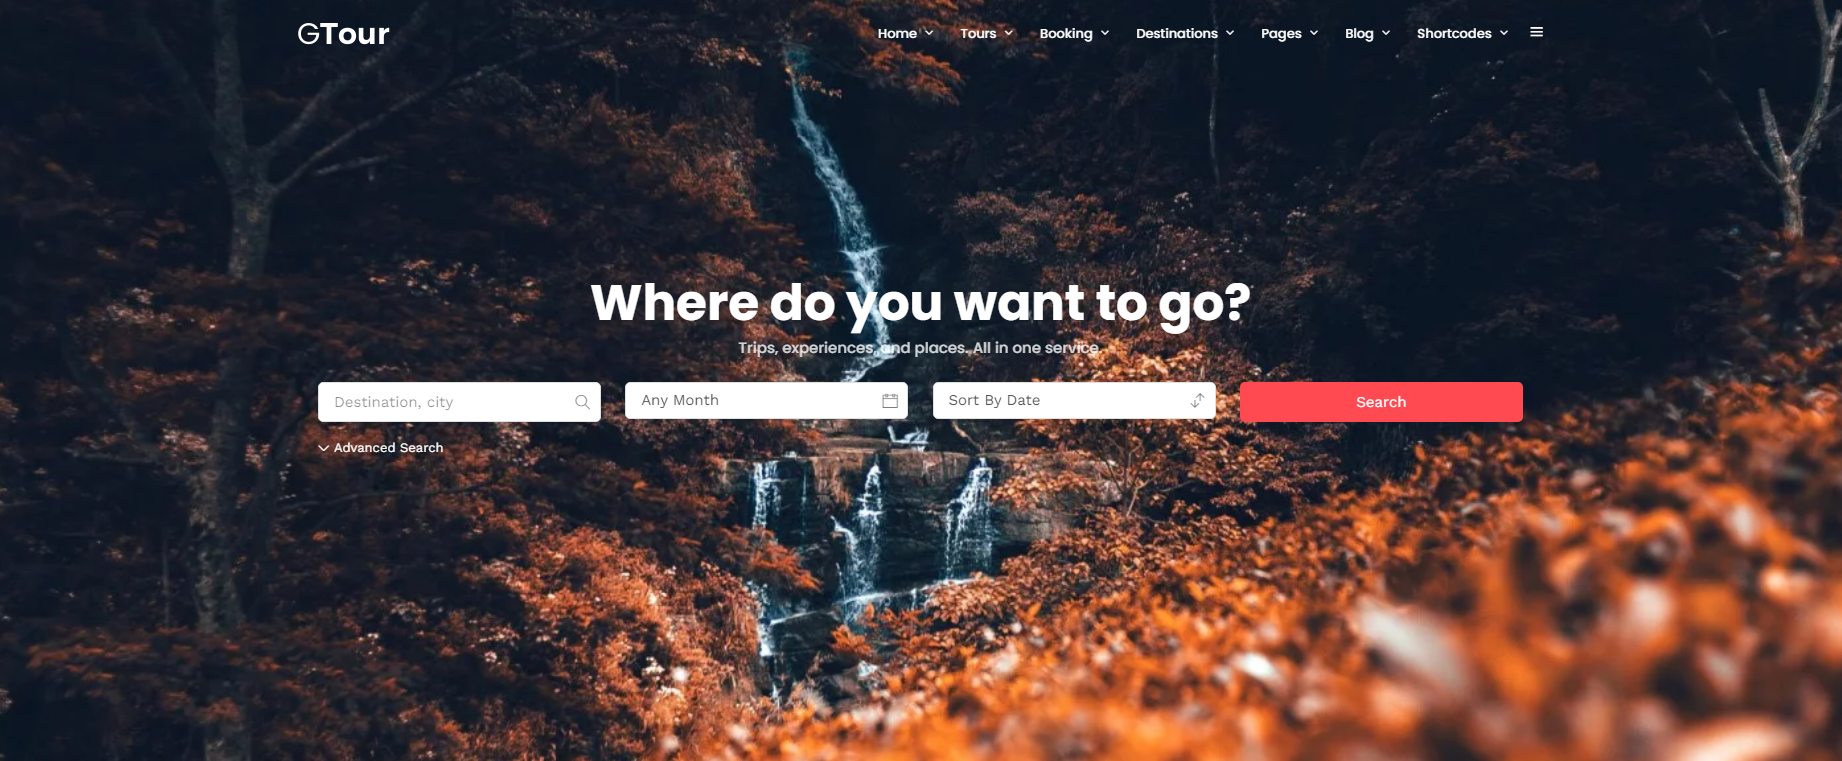menu: (36, 6, 1802, 156)
